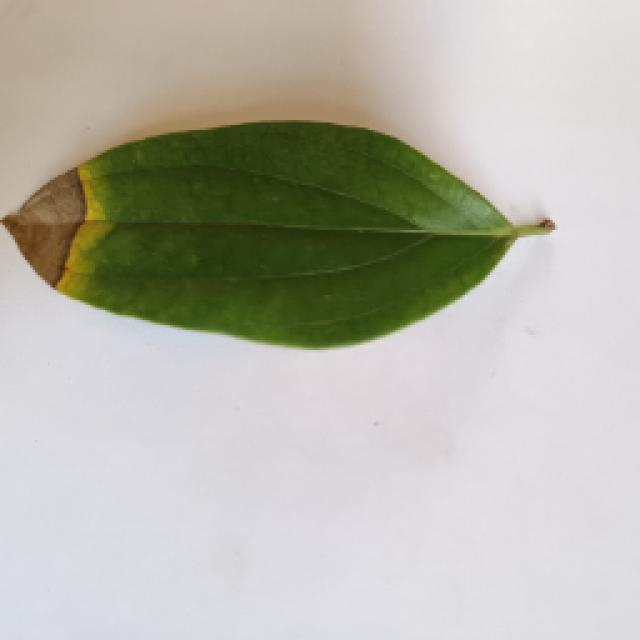footrot: (0, 104, 562, 347)
